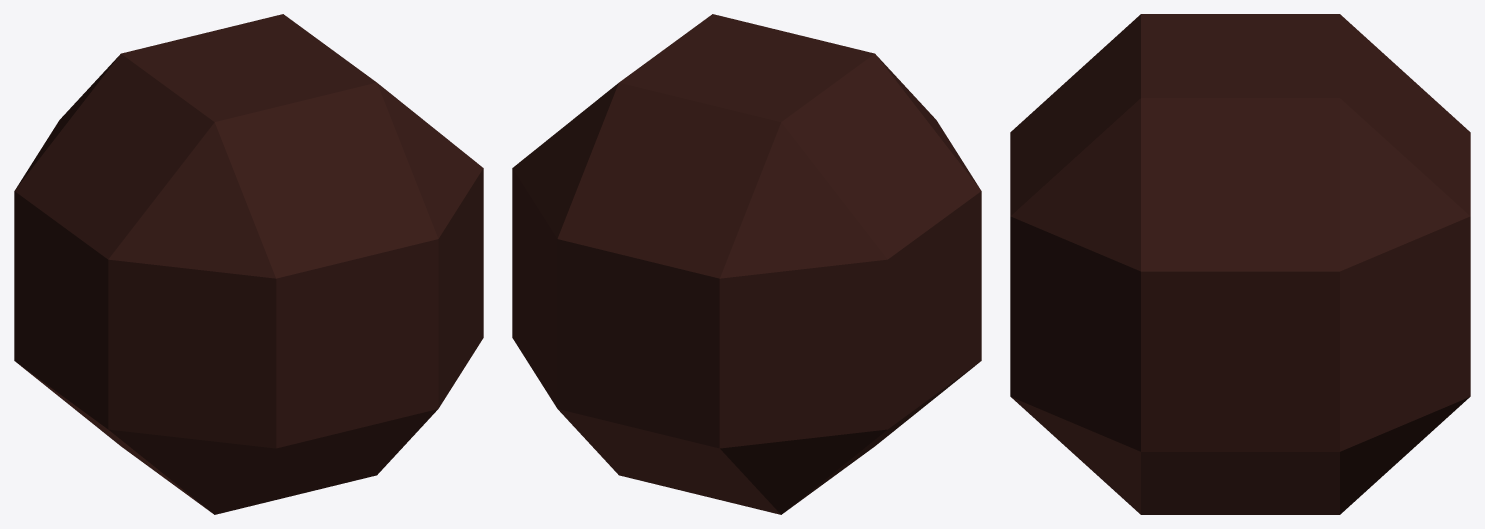
The model's file is FlamePart.glb.
3 views of the same model, side by side, from view 1: azimuth 30°, elevation 25°; view 2: azimuth 150°, elevation 25°; view 3: azimuth 270°, elevation 25° (orthographic). The views are drawn at different scales.
Visible parts, largest first — view 1: FlamePart; view 2: FlamePart; view 3: FlamePart.
Part boxes in pixels (bbox=[...]): FlamePart: bbox=[14, 14, 483, 514]; FlamePart: bbox=[512, 14, 981, 514]; FlamePart: bbox=[1010, 14, 1470, 514].
Bounding box in the file's own units: 2 × 2 × 2.
